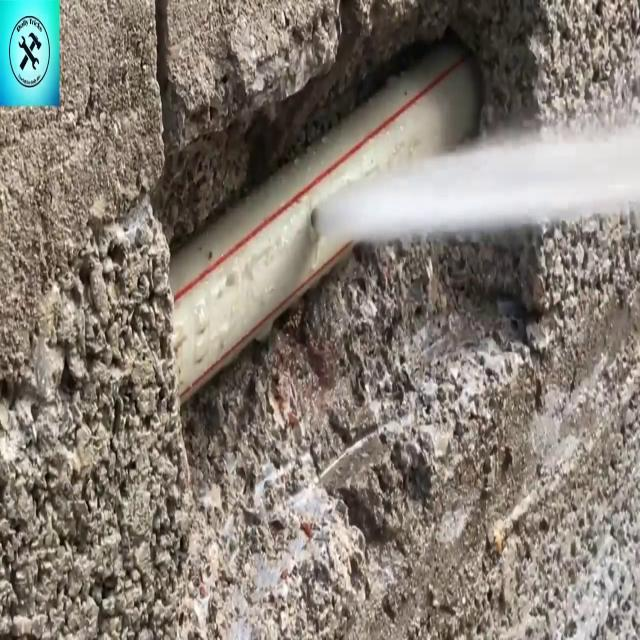leak: (312, 120, 640, 241)
